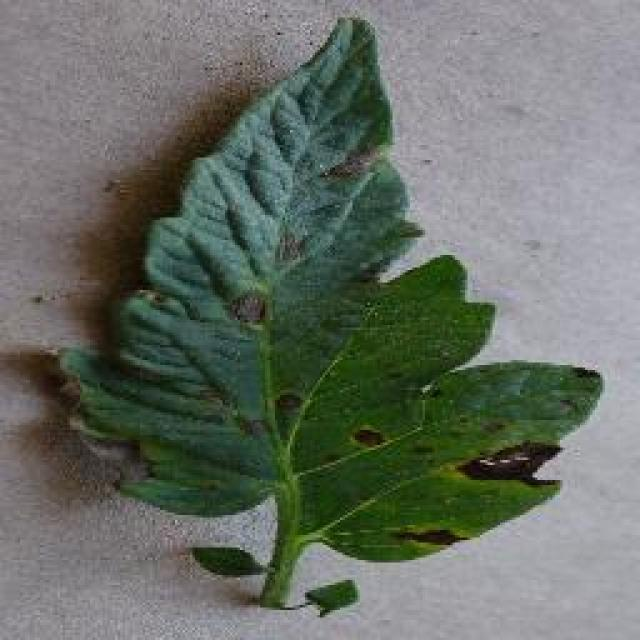Tomato___Early_blight: (61, 19, 605, 620)
